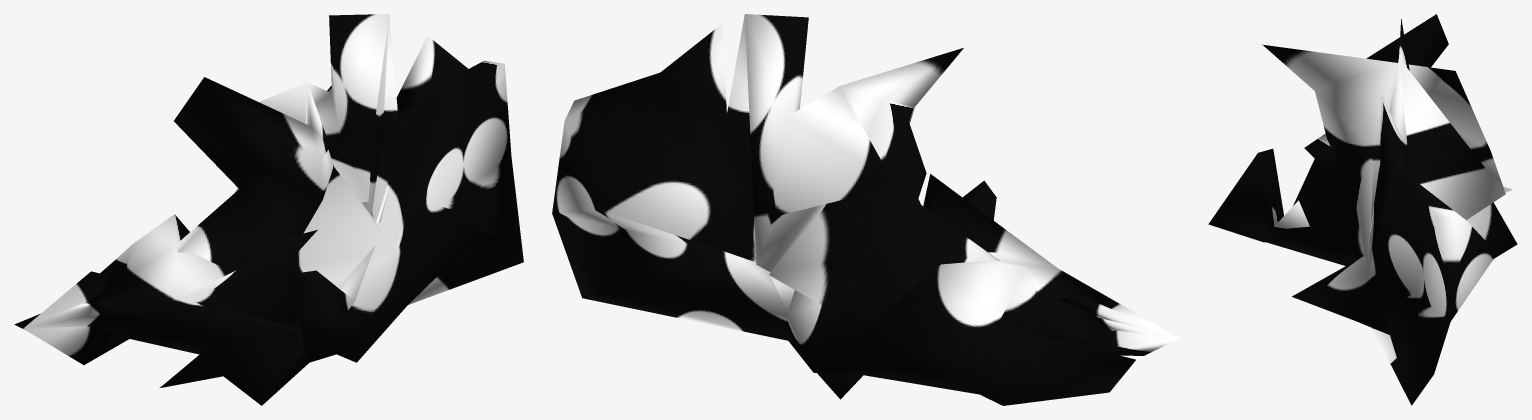
File: buisson_unity_UV_decimate.fbx
The picture shows the model from 3 angles, left to right: view 1: azimuth 30°, elevation 25°; view 2: azimuth 150°, elevation 25°; view 3: azimuth 270°, elevation 25°; orthographic projection. The views are drawn at different scales.
Visible parts, largest first — view 1: buisson2; view 2: buisson2; view 3: buisson2.
Boxes of the visible parts, x1,y1,x2,y2 form: buisson2: (14, 14, 523, 405); buisson2: (552, 14, 1179, 405); buisson2: (1208, 14, 1517, 405).
Bounding box in the file's own units: 111 × 62.75 × 57.4.
